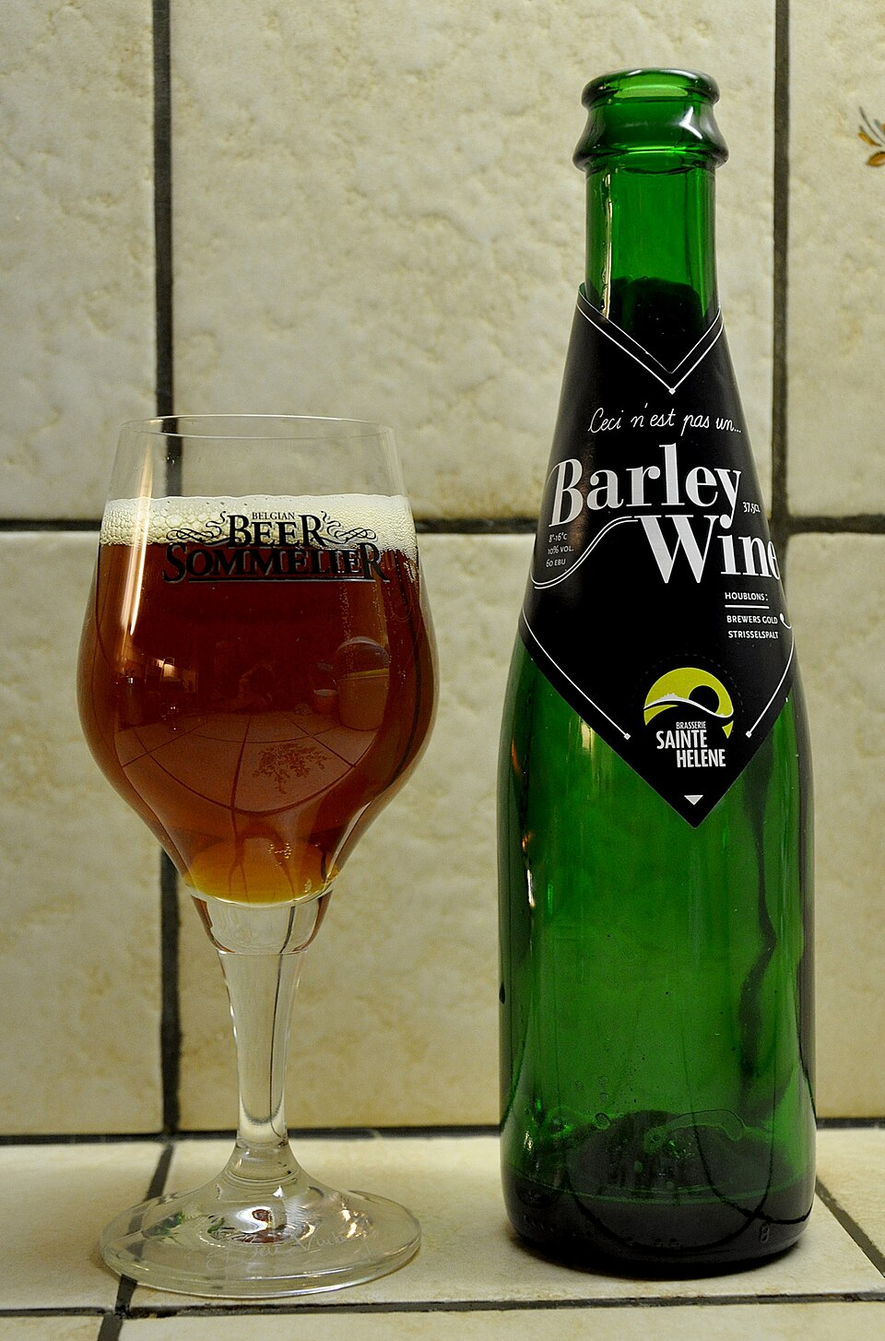beer-bottle: (475, 45, 832, 1284)
